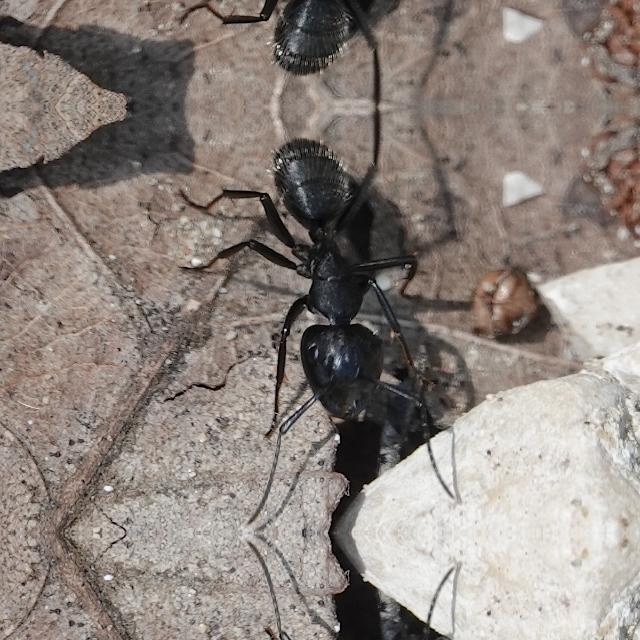Camponotus: (224, 105, 448, 482), (224, 0, 448, 106)
